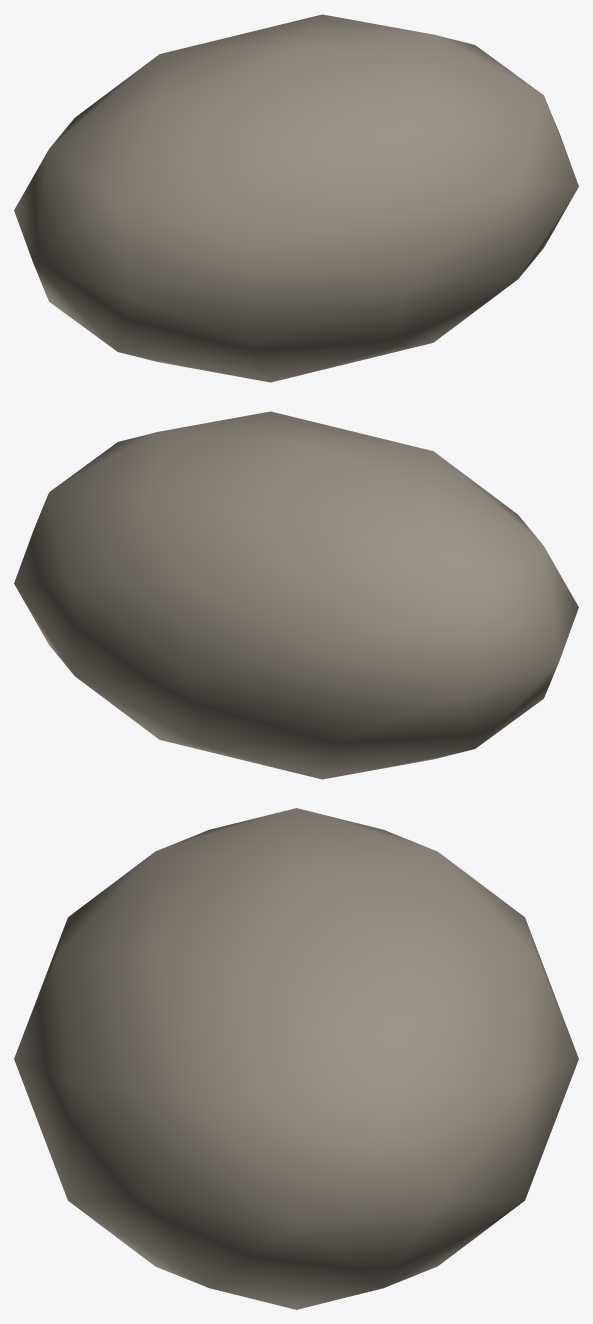
File: rock.glb
3 views of the same model, one above another, from view 1: azimuth 30°, elevation 25°; view 2: azimuth 150°, elevation 25°; view 3: azimuth 270°, elevation 25° (orthographic). The views are drawn at different scales.
Visible parts, largest first — view 1: rock; view 2: rock; view 3: rock.
Part boxes in pixels (x1,y1,x2,y2): rock: (14,14,578,382); rock: (14,411,578,779); rock: (14,808,578,1309).
Size of the model in its own units: 1.51 by 0.8352 by 1.1.
